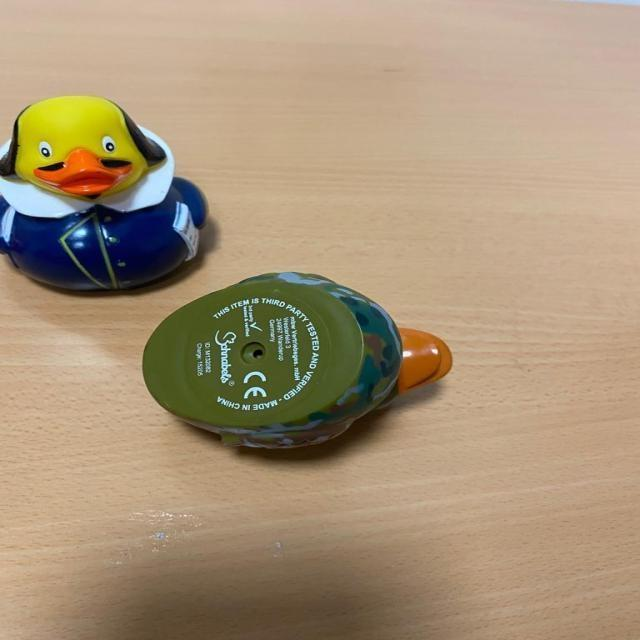rubber-duck: (142, 271, 450, 446), (0, 95, 205, 289)
